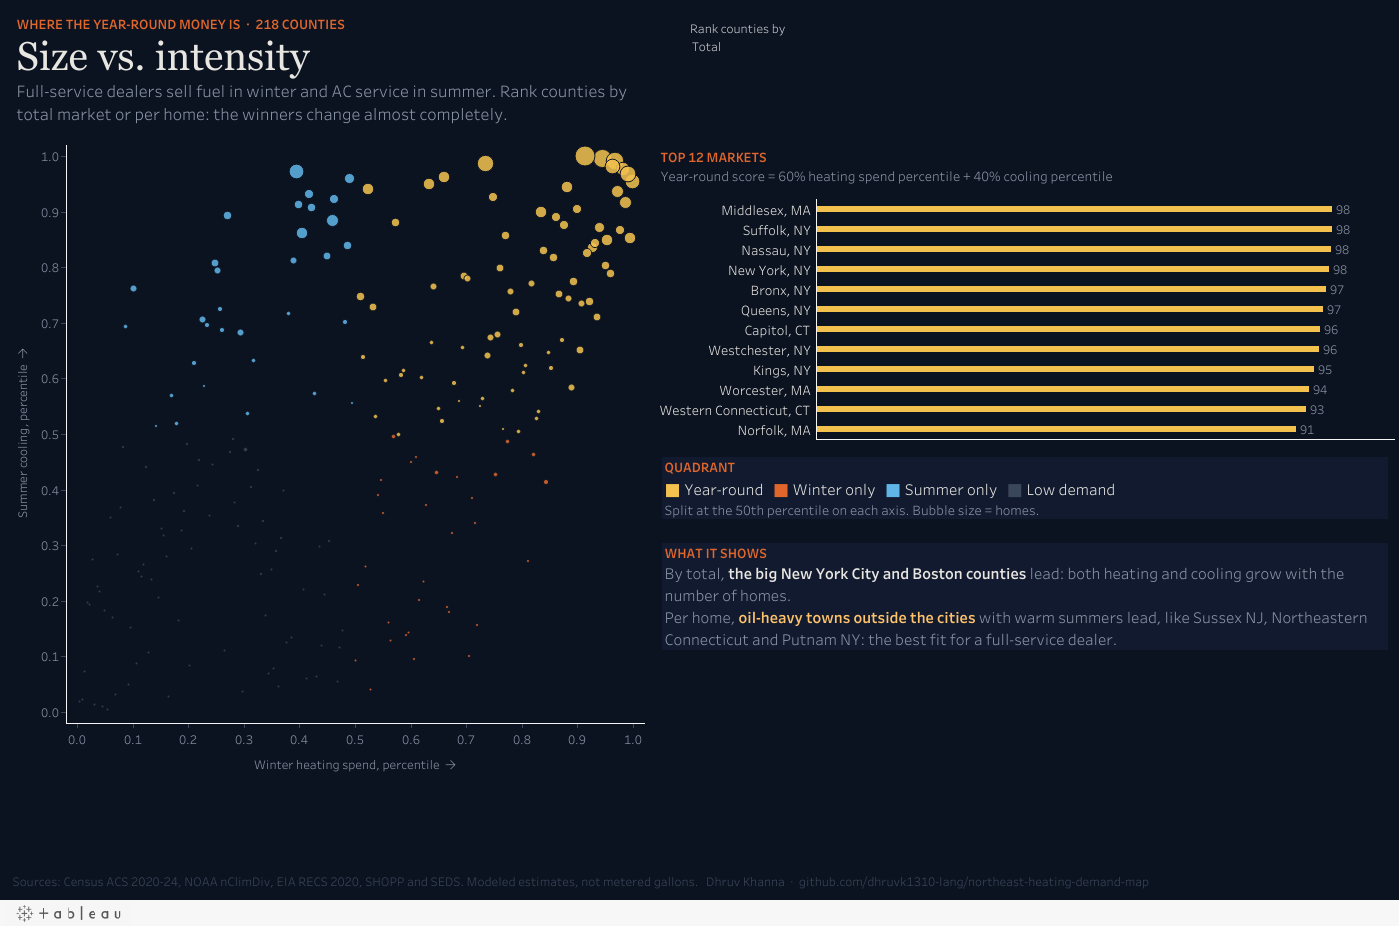

This screenshot's page, from the dashboard's own definition file:
{"tool":"tableau","page":{"name":"Where the Year-Round Money Is","canvas":[1400,900],"ordinal":1},"visuals":[{"type":"text","box":[0,0,1008,135]},{"type":"parameter","param":"[Parameters].[Parameter 2]","box":[1008,0,392,135]},{"type":"worksheet","title":"Year-Round Scatter","mark":"Circle","rows":["cooling_pct"],"cols":["heating_pct"],"box":[0,135,840,720]},{"type":"text","box":[840,135,560,57.6]},{"type":"worksheet","title":"Top Markets","mark":"Bar","rows":["Calculation_county_label"],"cols":["year_round_score"],"box":[840,192.6,560,360]},{"type":"text","box":[840,552.6,560,115.2]},{"type":"text","box":[840,667.8,560,187.2]},{"type":"text","box":[0,855,1400,45]}]}

Visuals, with their boxes on the page's 1400x900 design canvas (x1, y1, x2, y2). These are canvas units, not pixel positions in the 1399x926 screenshot, which may show the page scaled, cropped or inside an application window:
text: (0, 0, 1008, 135)
parameter: (1008, 0, 1400, 135)
"Year-Round Scatter" worksheet (Circle marks): (0, 135, 840, 855)
text: (840, 135, 1400, 193)
"Top Markets" worksheet (Bar marks): (840, 193, 1400, 553)
text: (840, 553, 1400, 668)
text: (840, 668, 1400, 855)
text: (0, 855, 1400, 900)
